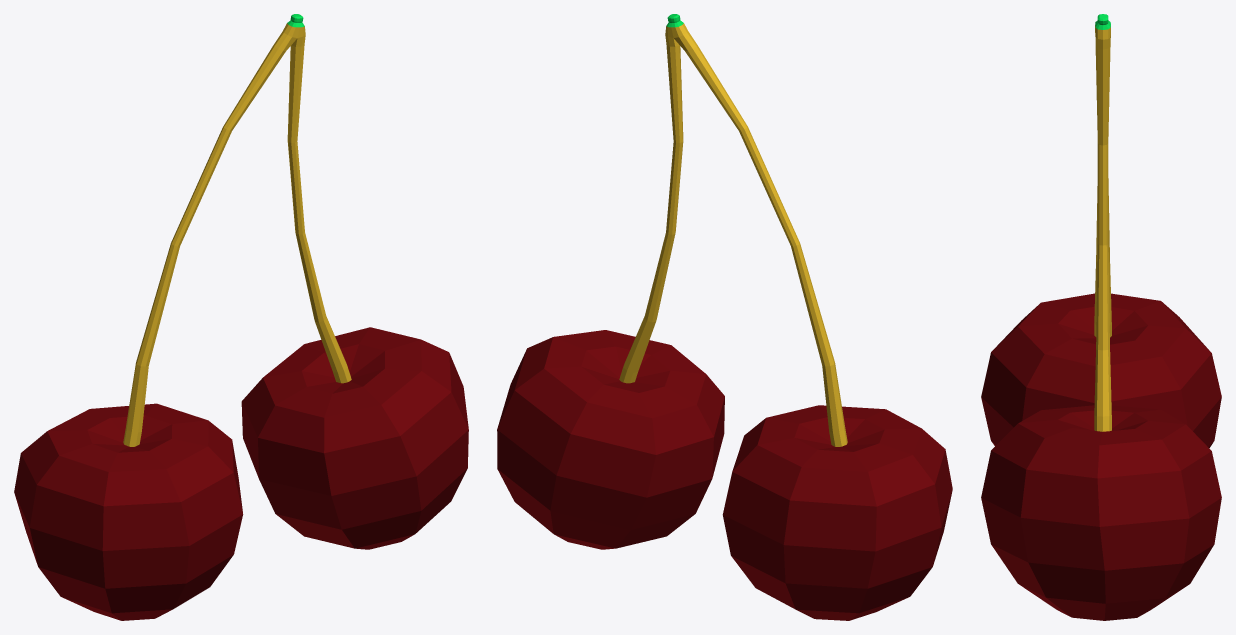
File: cherry.fbx
3 renders of one model, left to right at view 1: azimuth 30°, elevation 25°; view 2: azimuth 150°, elevation 25°; view 3: azimuth 270°, elevation 25°, orthographic. The views are drawn at different scales.
Parts seen in each view (by area): view 1: cherry; view 2: cherry; view 3: cherry.
Boxes of the visible parts, <box> form: cherry: <box>14,14,468,620</box>; cherry: <box>497,14,952,620</box>; cherry: <box>981,14,1221,620</box>.
Bounding box in the file's own units: 418 × 513 × 194.
